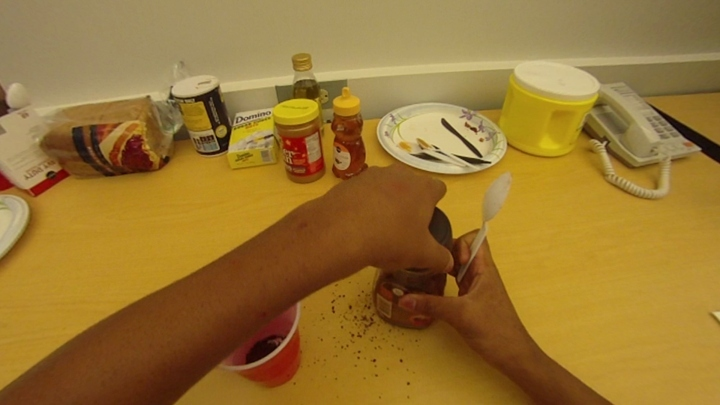hand: (331, 153, 455, 278), (394, 230, 521, 345)
